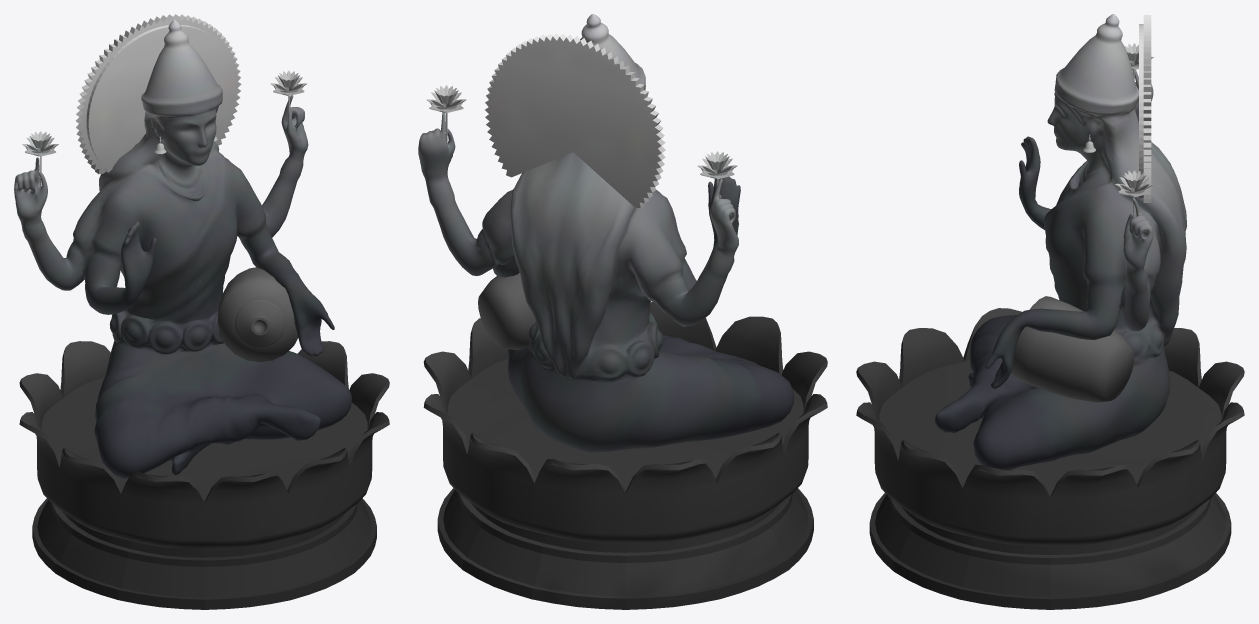
The model's file is M_Statue_01.fbx.
3 views of the same model, side by side, from view 1: azimuth 30°, elevation 25°; view 2: azimuth 150°, elevation 25°; view 3: azimuth 270°, elevation 25° (orthographic). The views are drawn at different scales.
Visible parts, largest first — view 1: M_Statue_01; view 2: M_Statue_01; view 3: M_Statue_01.
Part boxes in pixels (x1,y1,x2,y2): M_Statue_01: [14, 14, 389, 609]; M_Statue_01: [418, 14, 827, 609]; M_Statue_01: [856, 14, 1244, 609].
Bounding box in the file's own units: 10007 × 14764 × 10007.
Materials: 1 (1 with a texture image).
